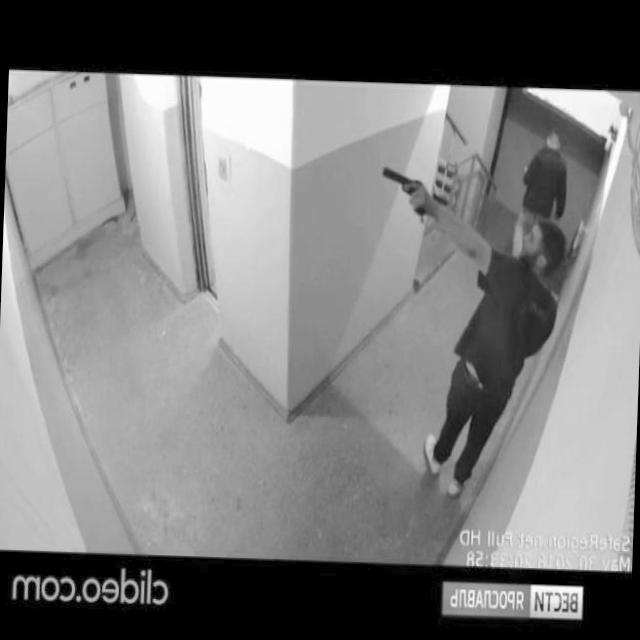gun: (376, 164, 428, 217)
person: (506, 125, 572, 270)
person with a gun: (365, 162, 570, 506)
